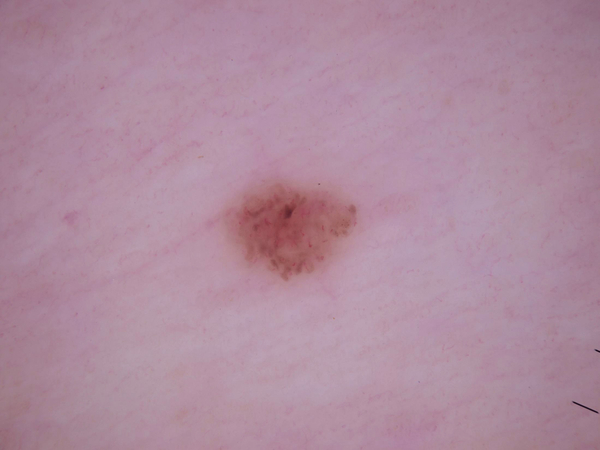Detected Lesion: (233, 180, 363, 286)
